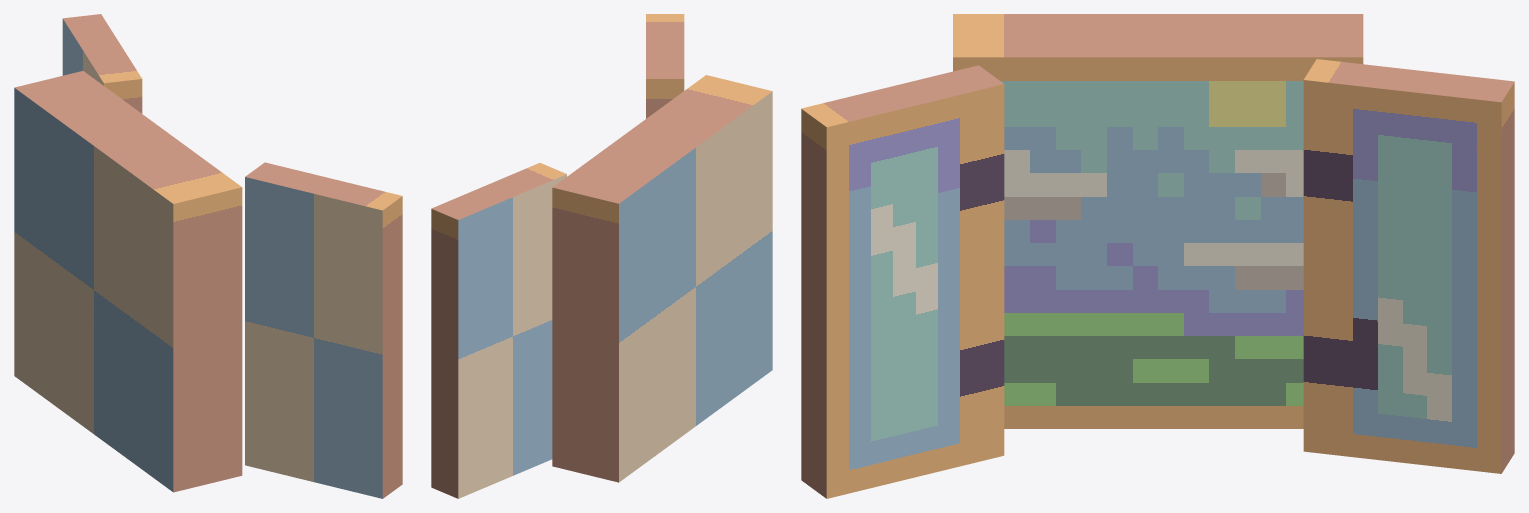
Rendered from Window.glb.
3 renders of one model, left to right at view 1: azimuth 30°, elevation 25°; view 2: azimuth 150°, elevation 25°; view 3: azimuth 270°, elevation 25°, orthographic. The views are drawn at different scales.
Visible parts, largest first — view 1: Fenetre; view 2: Fenetre; view 3: Fenetre.
Boxes of the visible parts, left/top/right/bottom form: Fenetre: left=14, top=14, right=402, bottom=498; Fenetre: left=431, top=14, right=772, bottom=498; Fenetre: left=801, top=14, right=1514, bottom=498.
Bounding box in the file's own units: 2.62 × 4 × 6.96.
Materials: 1 (1 with a texture image).
